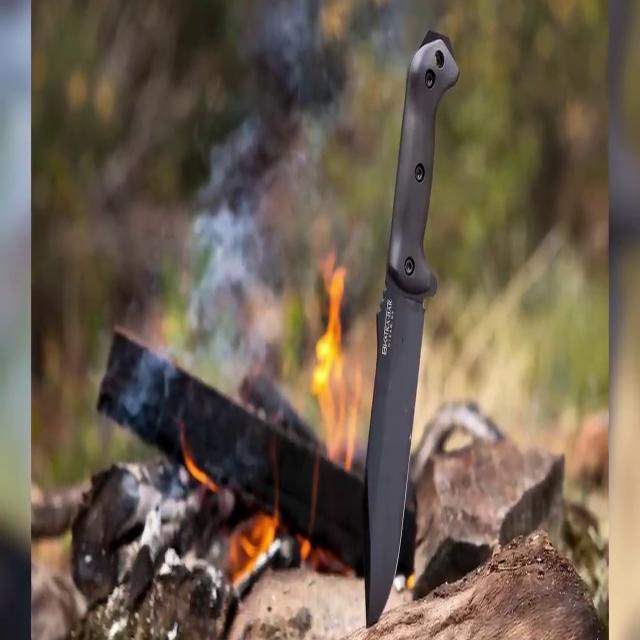Knife: (360, 29, 460, 636)
